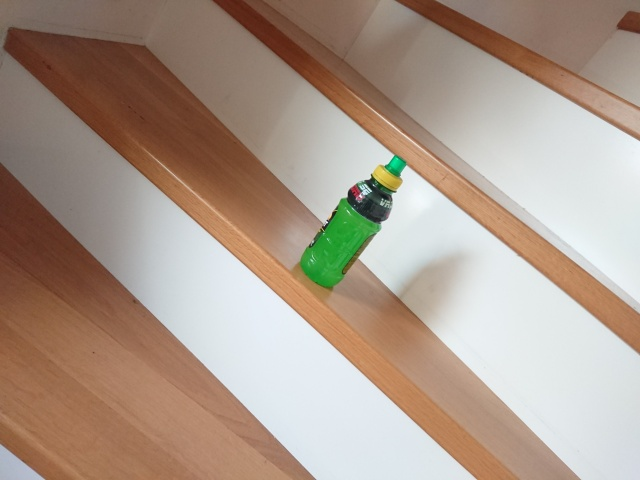Vindi Iso Sport Lemon-Grapefruit 500mL: (297, 152, 407, 289)
